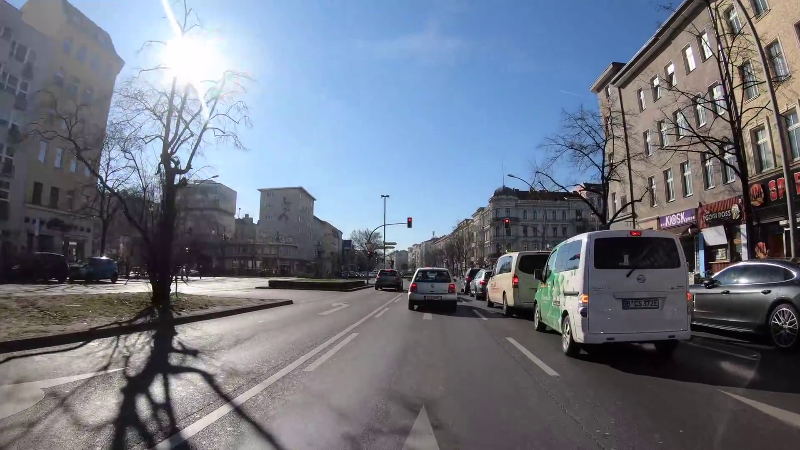Plate: (619, 297, 662, 310), (422, 295, 443, 301)
